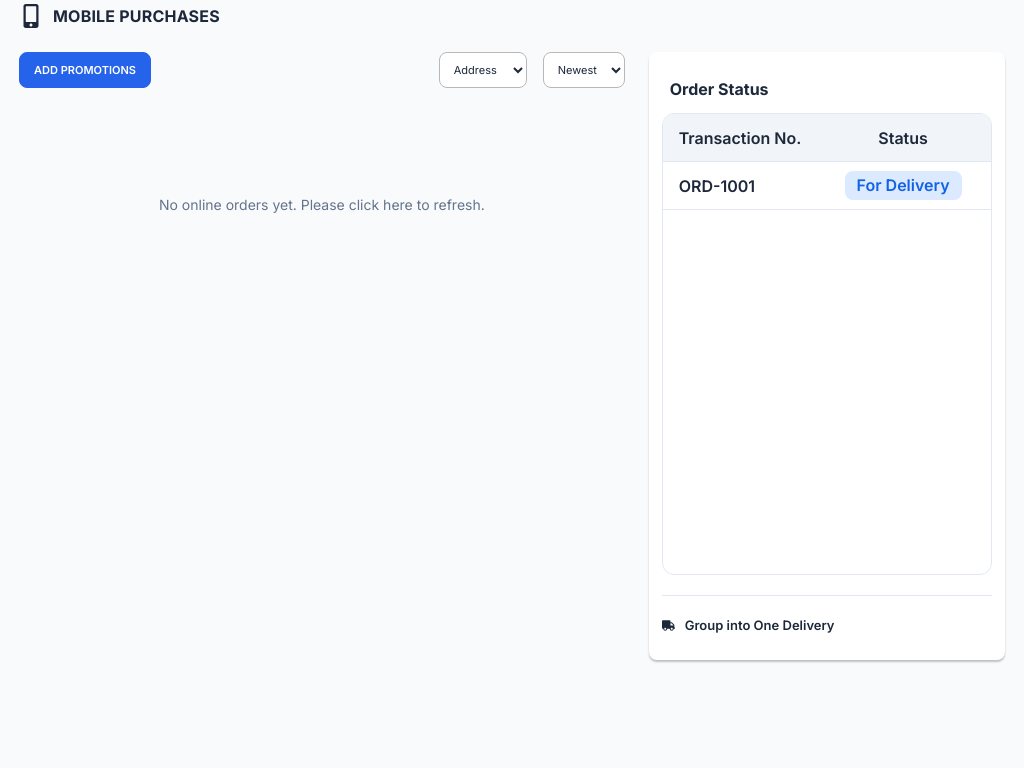
Test: confirmed history survives reopening the page and is independent of the address filter
Step 1. Click the button with aria-label "View order status for ORD-1001" → (717, 186), box left=679, top=174, right=755, bottom=198
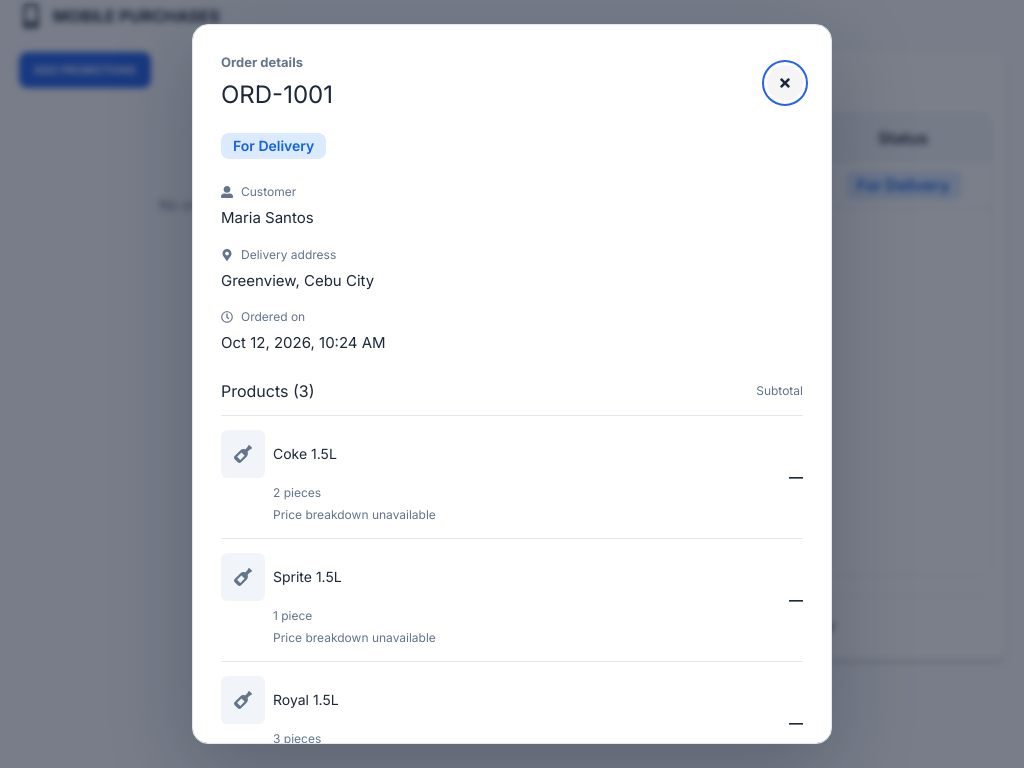
Check: the dialog is shown, box left=192, top=24, right=832, bottom=744
